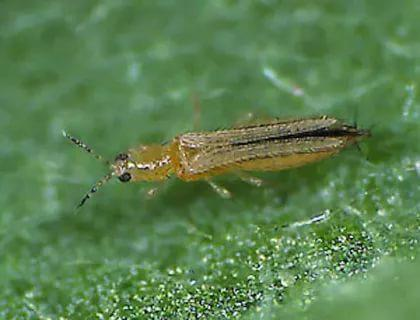tiny_pests: (26, 77, 418, 239)
